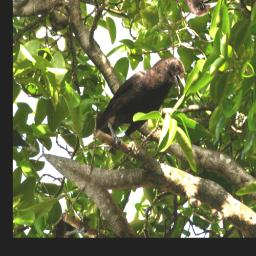Crow: (89, 29, 196, 171)
